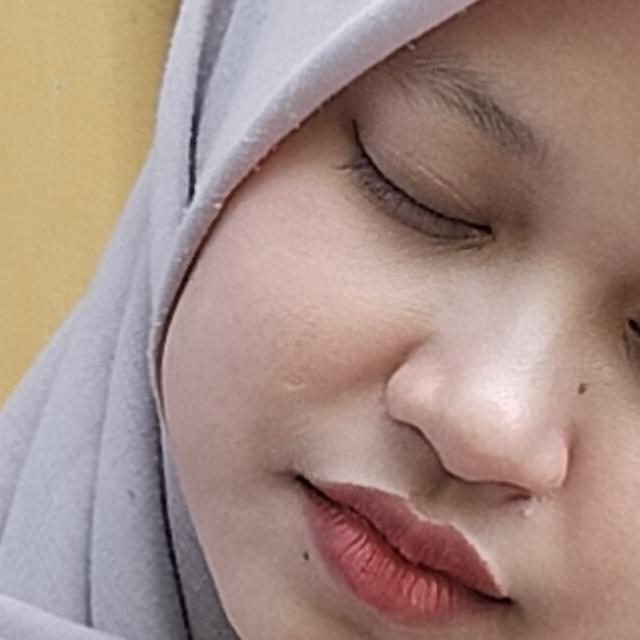tidur: (6, 258, 640, 640)
